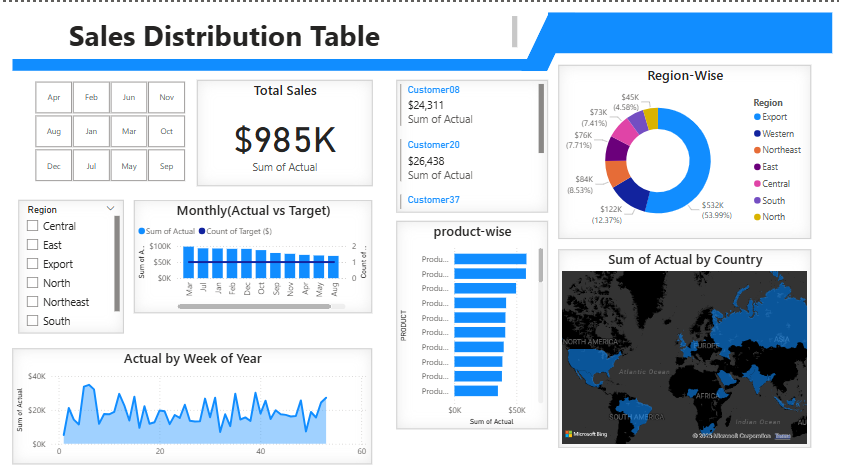

This screenshot's page, from the dashboard's own definition file:
{"tool":"powerbi","page":{"name":"Page 1","canvas":[1280,720],"ordinal":0},"visuals":[{"type":"slicer","fields":{"Values":["InputData.Month Name"]},"box":[28.8,113.9,275.8,164.7],"z":0},{"type":"card","title":"Total  Sales","fields":{"Values":["Sum(InputData.Actual)"]},"box":[299.1,118,266.2,160.5],"z":1000},{"type":"slicer","fields":{"Values":["Country.Region"]},"box":[28.8,299.1,159.2,201.7],"z":2000},{"type":"lineStackedColumnComboChart","title":"Monthly(Actual vs Target)","fields":{"Category":["TargetData.Month Name"],"Y2":["CountNonNull(TargetData.Target ($))"],"Y":["Sum(InputData. Actual)"]},"box":[204.5,299.1,360.9,171.5],"z":3000},{"type":"areaChart","title":" Actual by Week of Year","fields":{"Category":["InputData.Week of Year"],"Y":["Sum(InputData. Actual)"]},"box":[20.6,525.6,544.8,175.6],"z":4000},{"type":"multiRowCard","fields":{"Values":["Country.Customer Name","Sum(InputData. Actual)"]},"box":[602.4,118,229.2,200.3],"z":5000},{"type":"clusteredBarChart","title":"product-wise","fields":{"Category":["InputData.PRODUCT"],"Y":["Sum(InputData. Actual)"]},"box":[602.4,332.1,229.2,315.6],"z":6000},{"type":"donutChart","title":"Region-Wise","fields":{"Category":["Country.Region"],"Y":["Sum(InputData. Actual)"]},"box":[848,96.1,382.8,263.5],"z":7000},{"type":"filledMap","fields":{"Category":["Country.Country"]},"box":[848,374.6,382.8,300.5],"z":8000},{"type":"shape","box":[20.6,86.4,780.8,17.8],"z":9000},{"type":"shape","box":[831.6,15.1,430.9,61.7],"z":10000},{"type":"shape","box":[790.4,15.1,82.3,89.2],"z":11000},{"type":"textbox","box":[100.2,15.1,690.2,61.7],"z":12000}]}

Visuals, with their boxes in screenshot pixels (x1, y1, x2, y2), scaled from the page's 1280x720 canvas onto the 841x472 screenshot:
slicer - InputData.Month Name: <region>19, 75, 200, 183</region>
"Total  Sales" card: <region>197, 77, 371, 183</region>
slicer - Country.Region: <region>19, 196, 124, 328</region>
"Monthly(Actual vs Target)" lineStackedColumnComboChart: <region>134, 196, 371, 309</region>
" Actual by Week of Year" areaChart: <region>14, 345, 371, 460</region>
multiRowCard - Country.Customer Name x Sum(InputData. Actual): <region>396, 77, 546, 209</region>
"product-wise" clusteredBarChart: <region>396, 218, 546, 425</region>
"Region-Wise" donutChart: <region>557, 63, 809, 236</region>
filledMap - Country.Country: <region>557, 246, 809, 443</region>
shape: <region>14, 57, 527, 68</region>
shape: <region>546, 10, 830, 50</region>
shape: <region>519, 10, 573, 68</region>
textbox: <region>66, 10, 519, 50</region>
